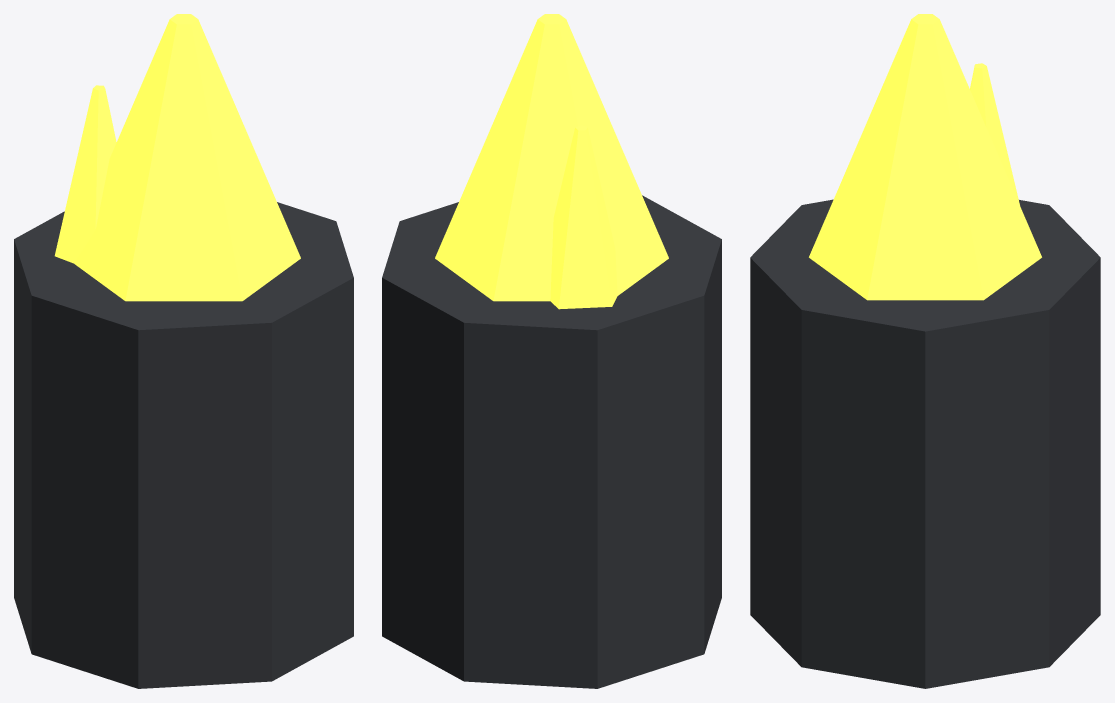
Rendered from Mechon.fbx.
3 views of the same model, side by side, from view 1: azimuth 30°, elevation 25°; view 2: azimuth 150°, elevation 25°; view 3: azimuth 270°, elevation 25° (orthographic).
Visible parts, largest first — view 1: Mechon; view 2: Mechon; view 3: Mechon.
Boxes of the visible parts, box(x1,y1,x2,y2) form: Mechon: box(14, 14, 353, 688); Mechon: box(382, 14, 721, 688); Mechon: box(750, 14, 1100, 688).
Size of the model in its own units: 0.32 by 0.6 by 0.32.
